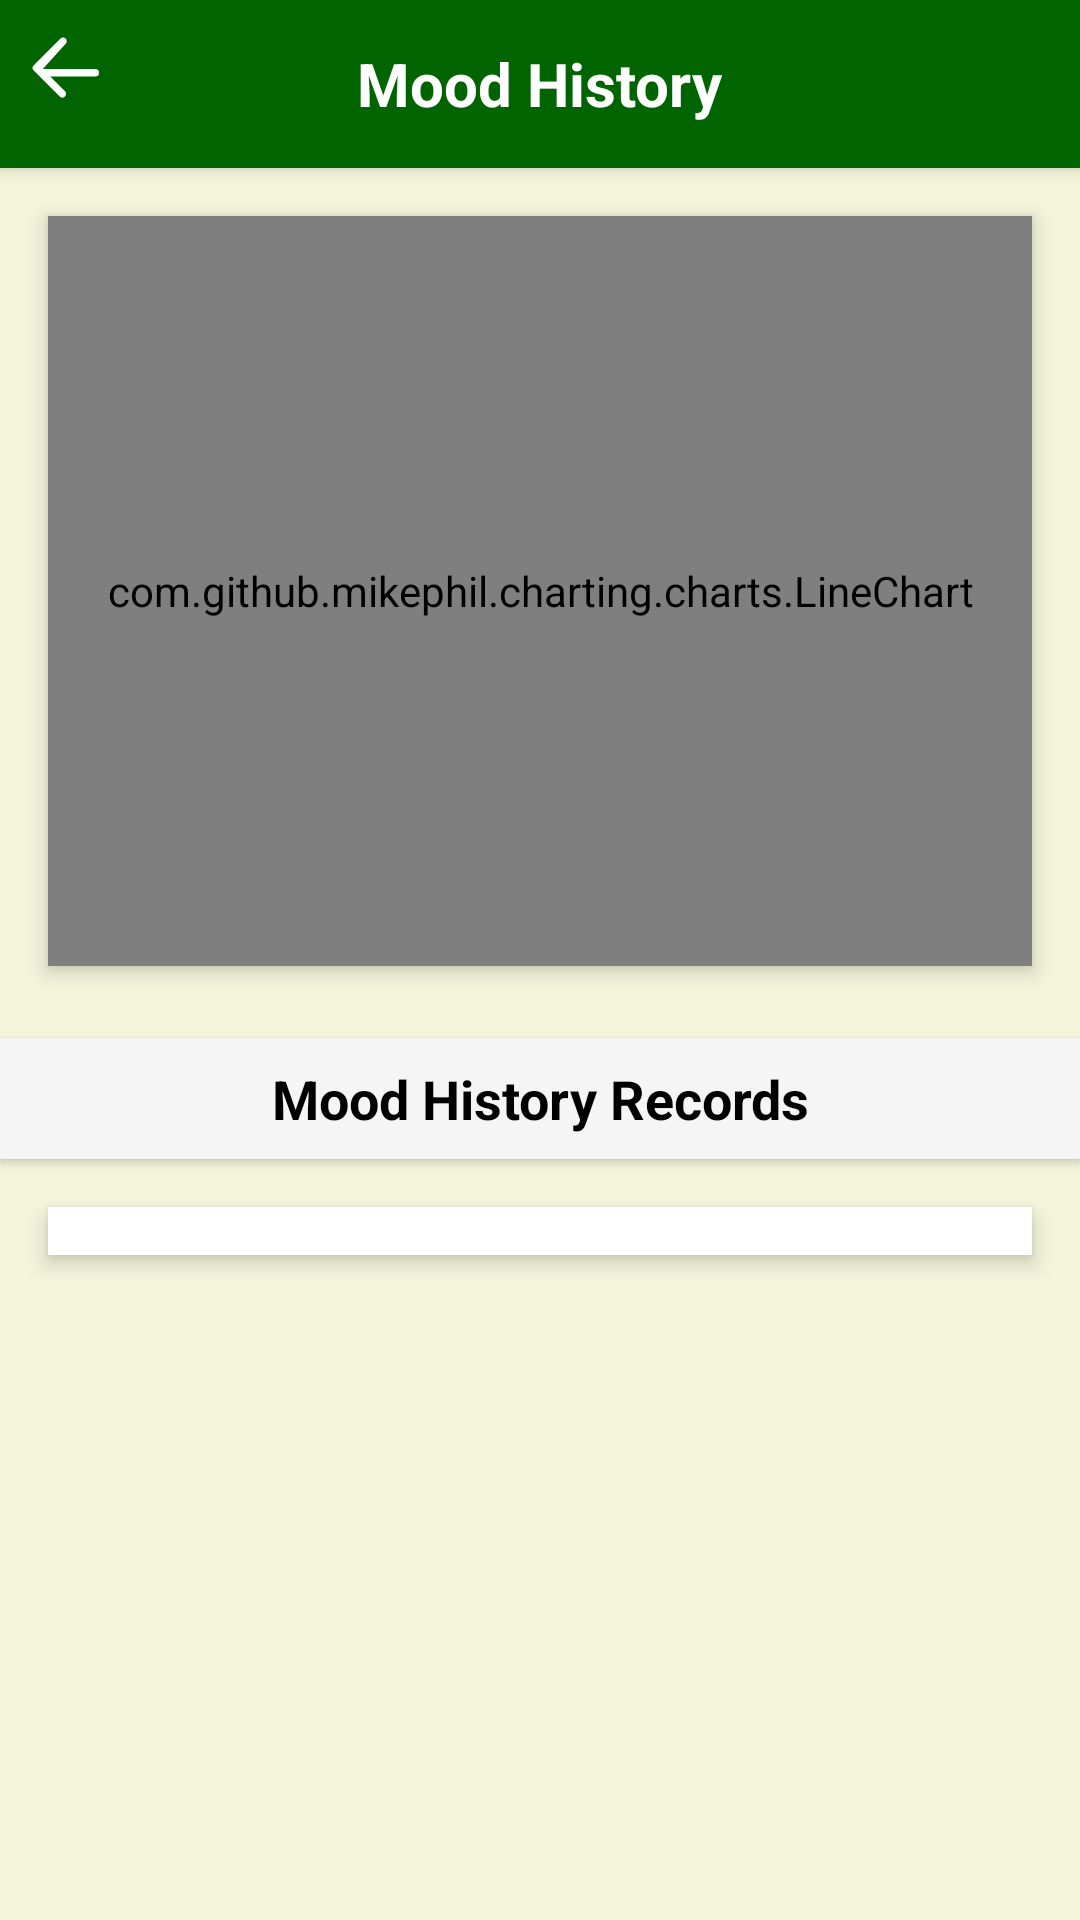

Where to tap for icons on this 1080x1920 app screen, as point (x, y):
Back: point (65, 67)
